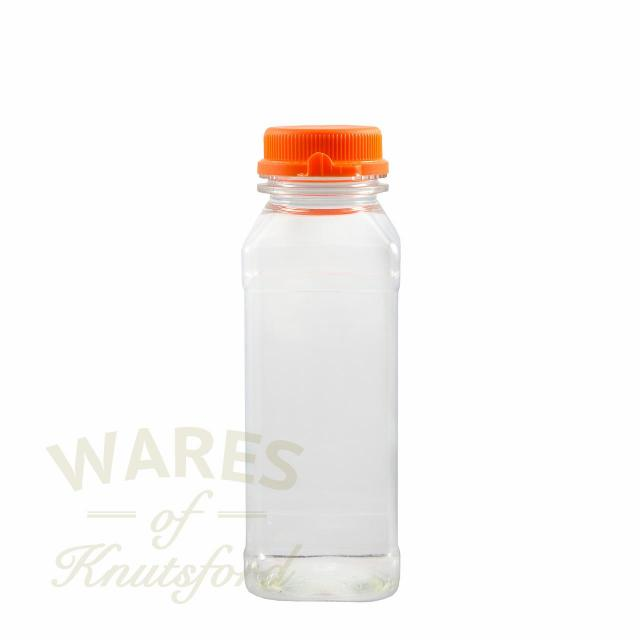plastic_bottle: (241, 120, 409, 608)
